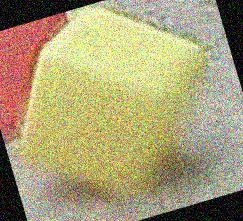yellow_cube: (24, 16, 208, 197)
